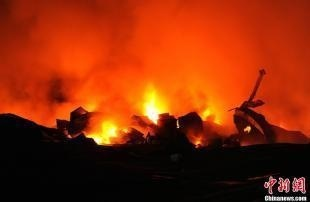fire: (84, 117, 125, 145), (137, 85, 167, 123)
